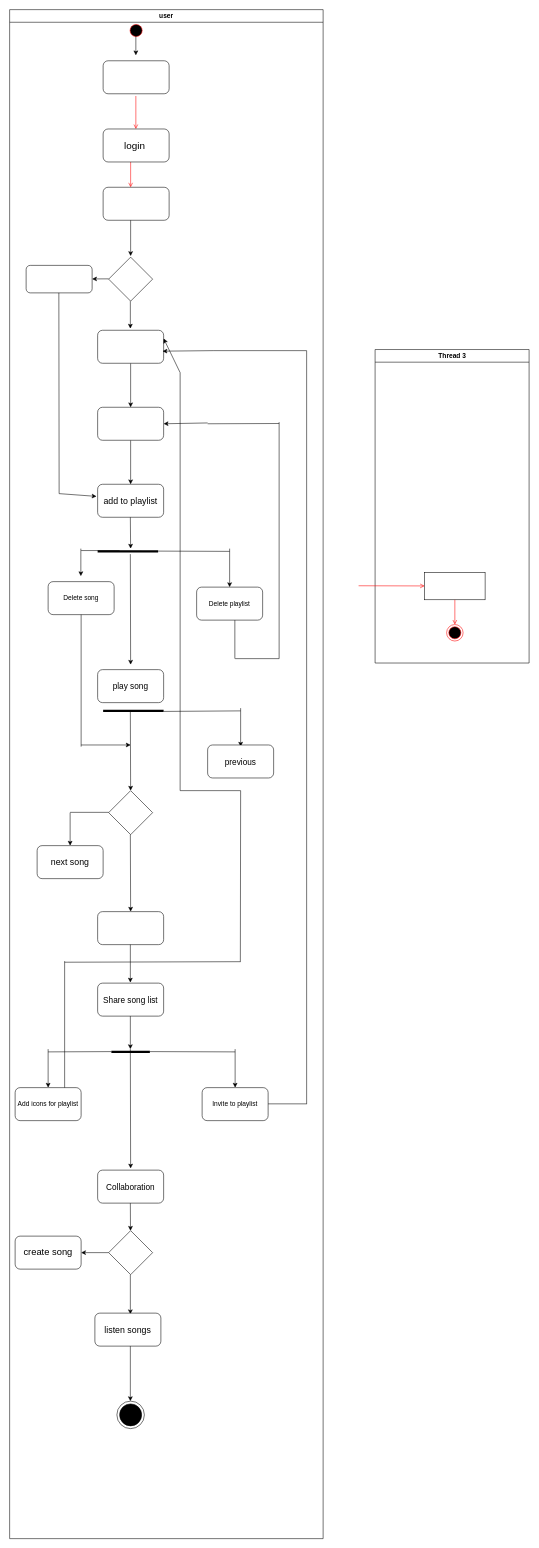
This 539x1548 diagram has some shape labels left out. The shapes that lost their labels are listed below. From the top down, each one's centre as x and y in pixels, then its label:
At [136,77]: "sign up".
At [136,203]: "menu".
At [59,279]: "search for songs".
At [130,346]: "playlist".
At [130,423]: "create playlist".
At [454,586]: "process command".
At [130,928]: "Stop song".
